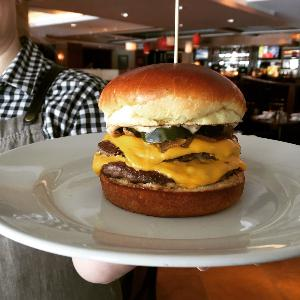cheeseburger_475cal: (98, 59, 253, 217)
